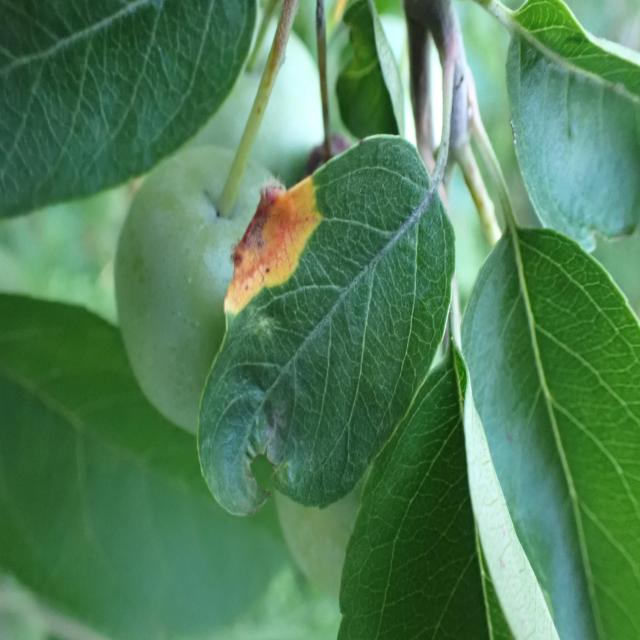Rust: (221, 163, 325, 350)
